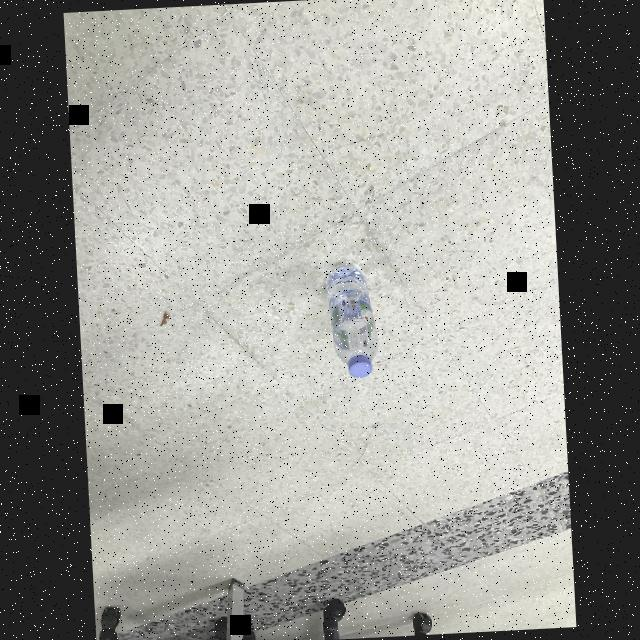plastic_bottle: (324, 258, 380, 378)
plastic_bottle_cap: (348, 354, 373, 380)
